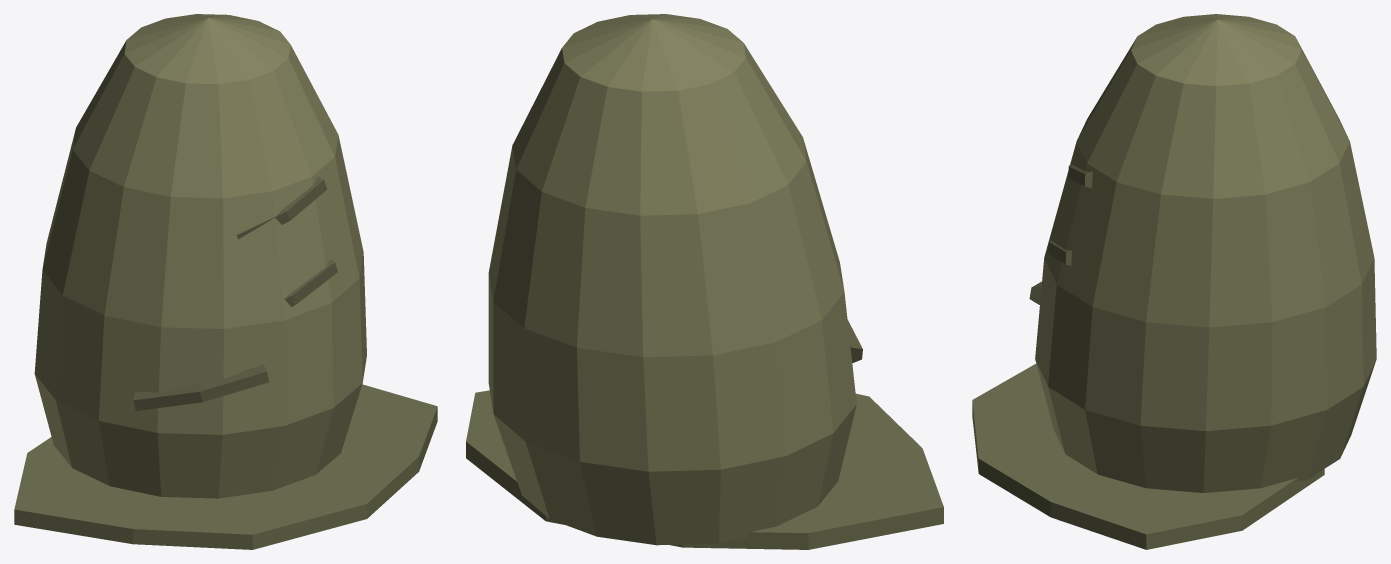
Rendered from vge_exoworm_cocoon_b.obj.
The picture shows the model from 3 angles, left to right: view 1: azimuth 30°, elevation 25°; view 2: azimuth 150°, elevation 25°; view 3: azimuth 270°, elevation 25°; orthographic projection. The views are drawn at different scales.
Parts seen in each view (by area): view 1: vge_exoworm_cocoon_b_1, vge_exoworm_cocoon_b_0, vge_exoworm_cocoon_b_2, vge_exoworm_cocoon_b_4, vge_exoworm_cocoon_b_3; view 2: vge_exoworm_cocoon_b_1, vge_exoworm_cocoon_b_0; view 3: vge_exoworm_cocoon_b_1, vge_exoworm_cocoon_b_0.
Part boxes in pixels (x1,y1,x2,y2): vge_exoworm_cocoon_b_1: (34,14,366,498); vge_exoworm_cocoon_b_0: (14,384,437,549); vge_exoworm_cocoon_b_2: (133,364,269,410); vge_exoworm_cocoon_b_4: (236,176,327,239); vge_exoworm_cocoon_b_3: (284,259,337,306); vge_exoworm_cocoon_b_1: (488,14,856,545); vge_exoworm_cocoon_b_0: (466,390,943,549); vge_exoworm_cocoon_b_1: (1035,14,1376,492); vge_exoworm_cocoon_b_0: (972,364,1324,549).
Size of the model in its own units: 0.8748 by 0.84 by 0.7104.
